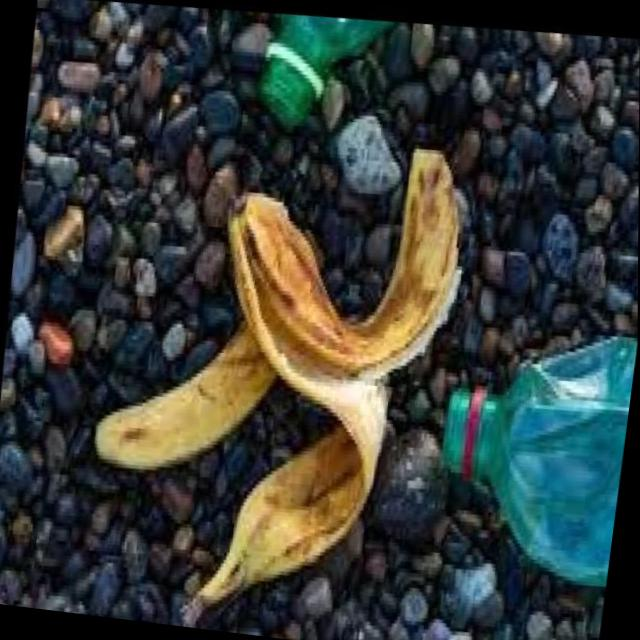fabric: (24, 63, 486, 640)
leaf: (419, 306, 638, 600), (244, 1, 421, 144), (438, 443, 441, 451)
